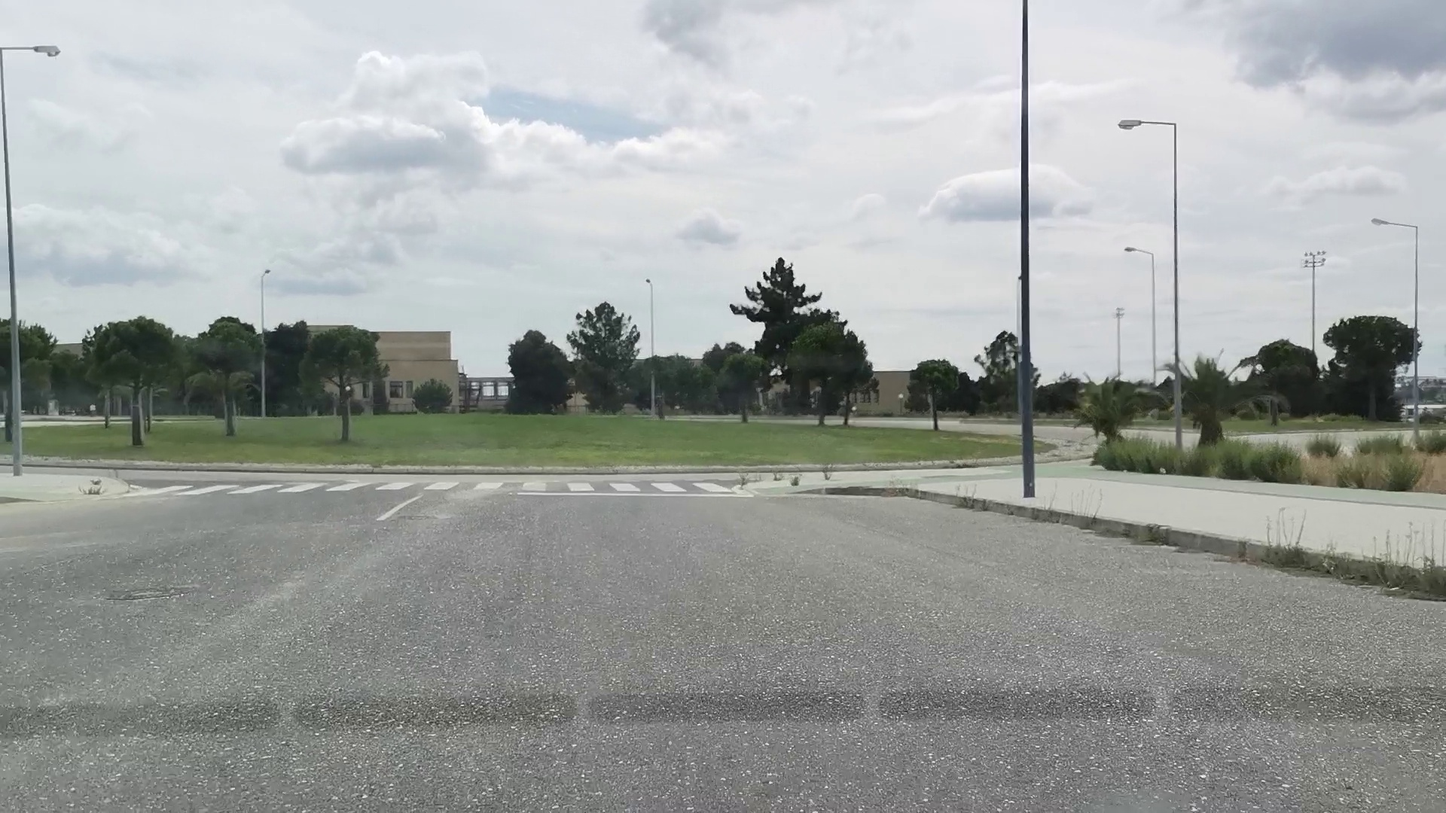Stairs: (123, 477, 743, 496)
